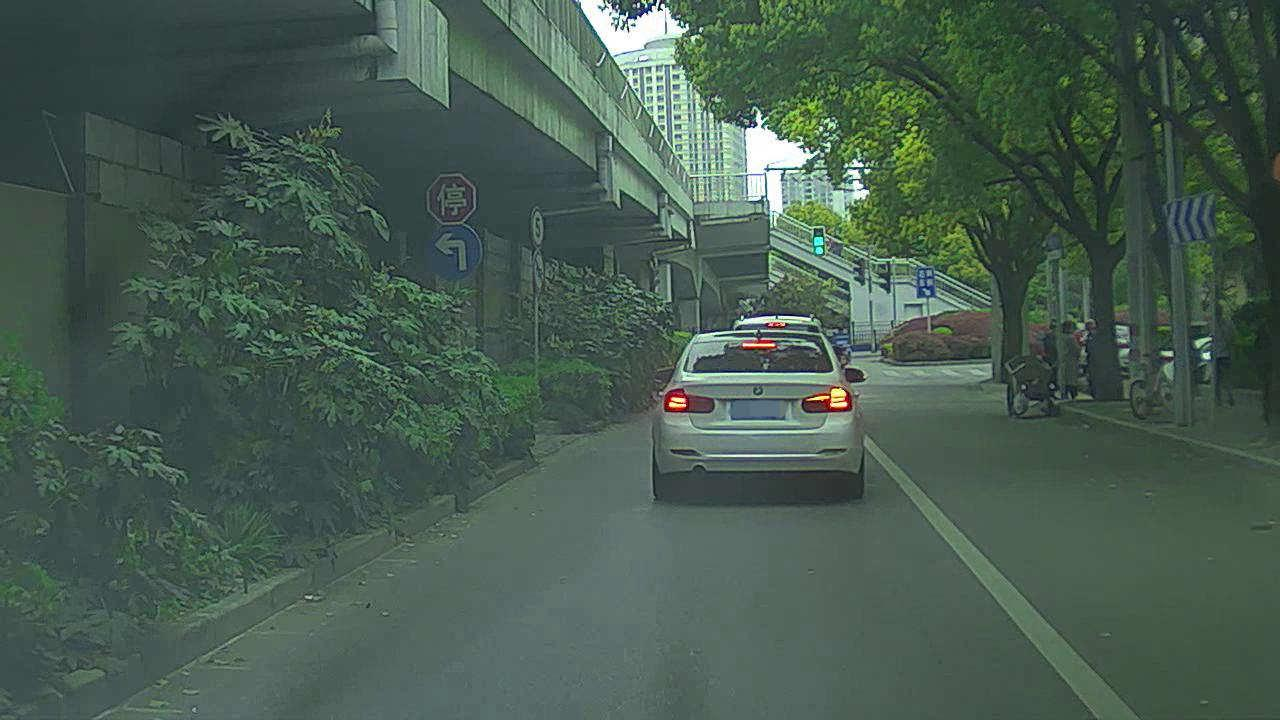traffic_light: (813, 226, 826, 253)
